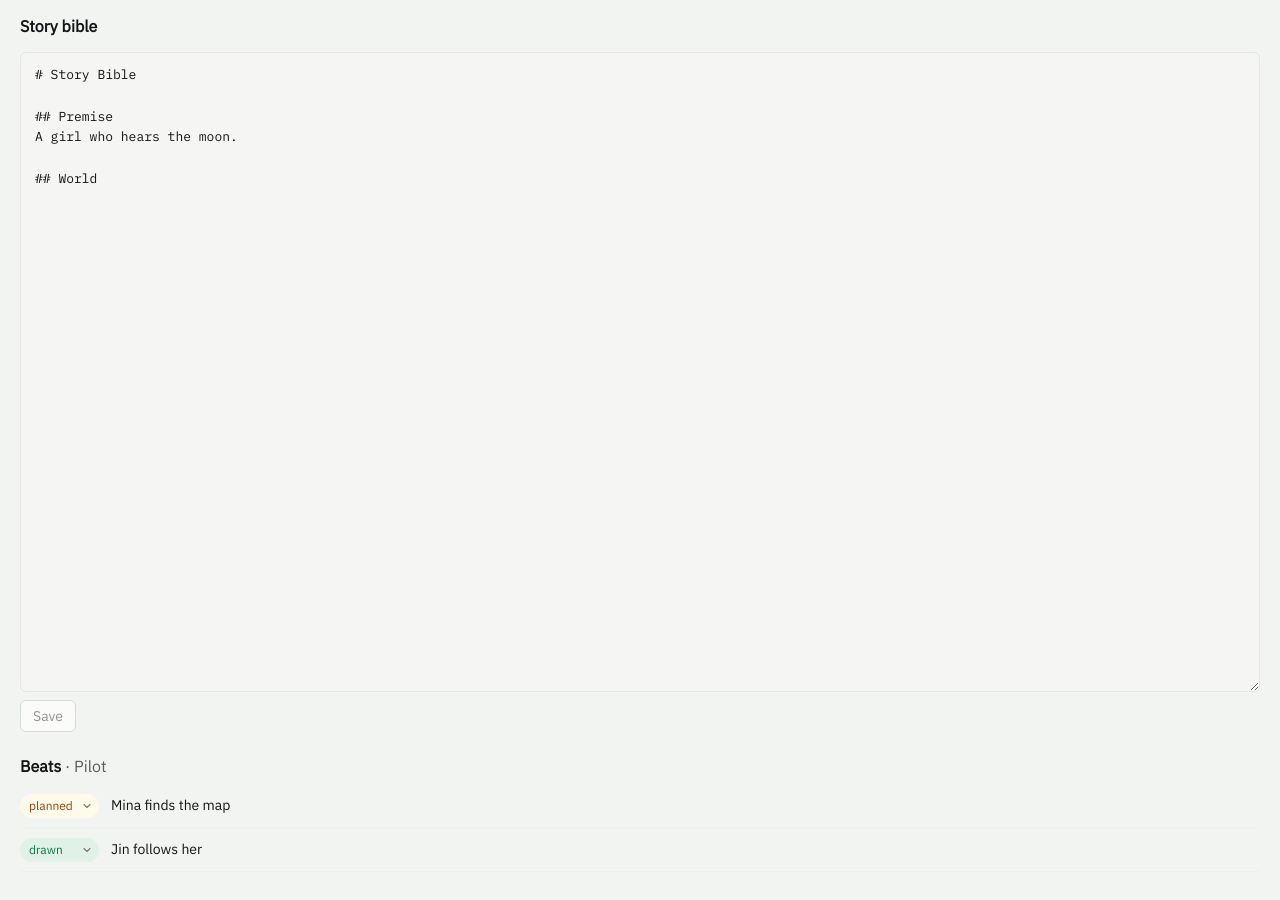
Test: StoryTab › does not wipe unsaved text when the agent changes the bible, and warns that saving overwrites
Type "my draft" into the text box with test id "bible-editor". click: (640, 372)
box: x1=20 y1=52 x2=1260 y2=692
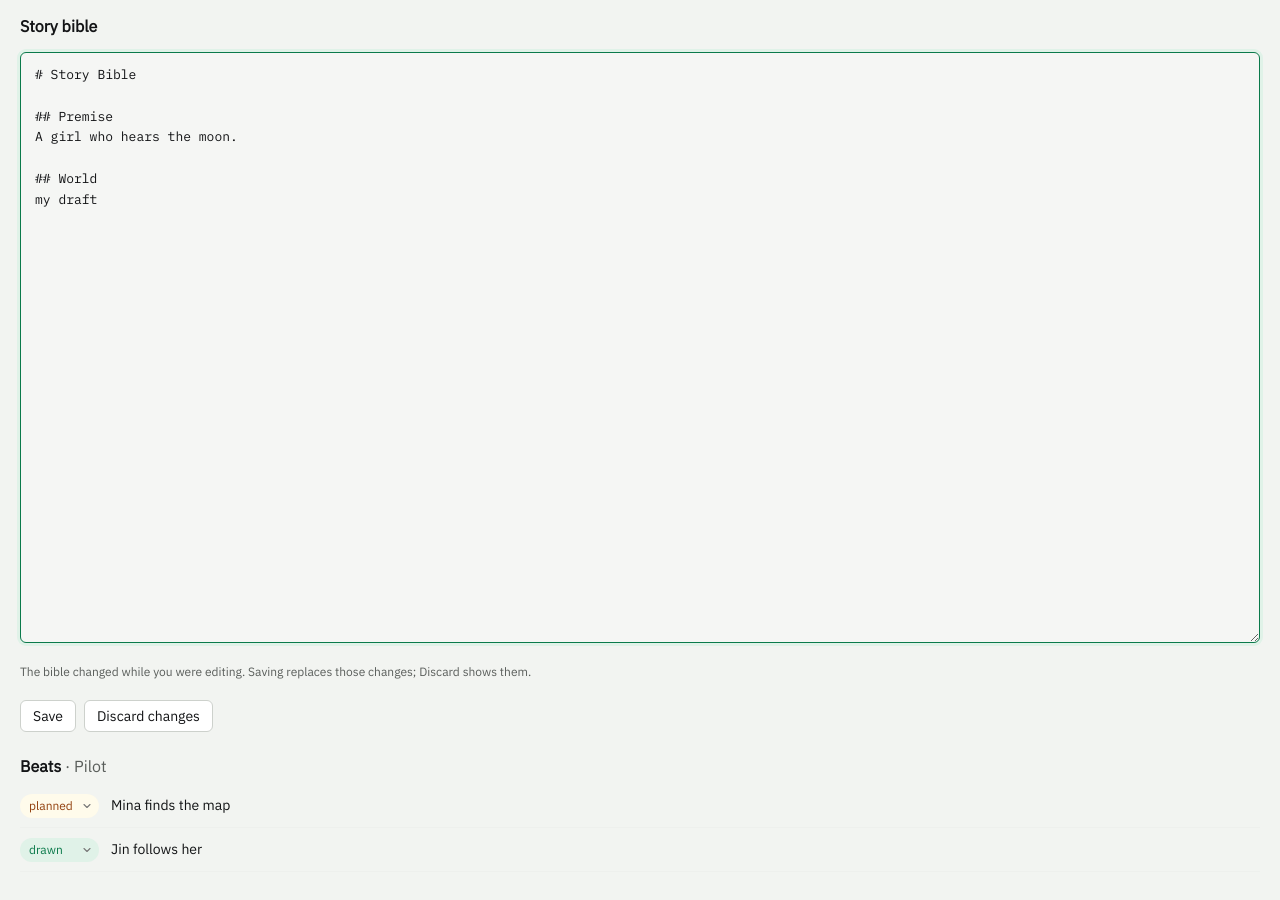
Result: the message with test id "bible-conflict" shows "changed" at x1=20 y1=664 x2=531 y2=679
Click the button with test id "bible-discard". click: (148, 716)
box: x1=84 y1=700 x2=213 y2=732
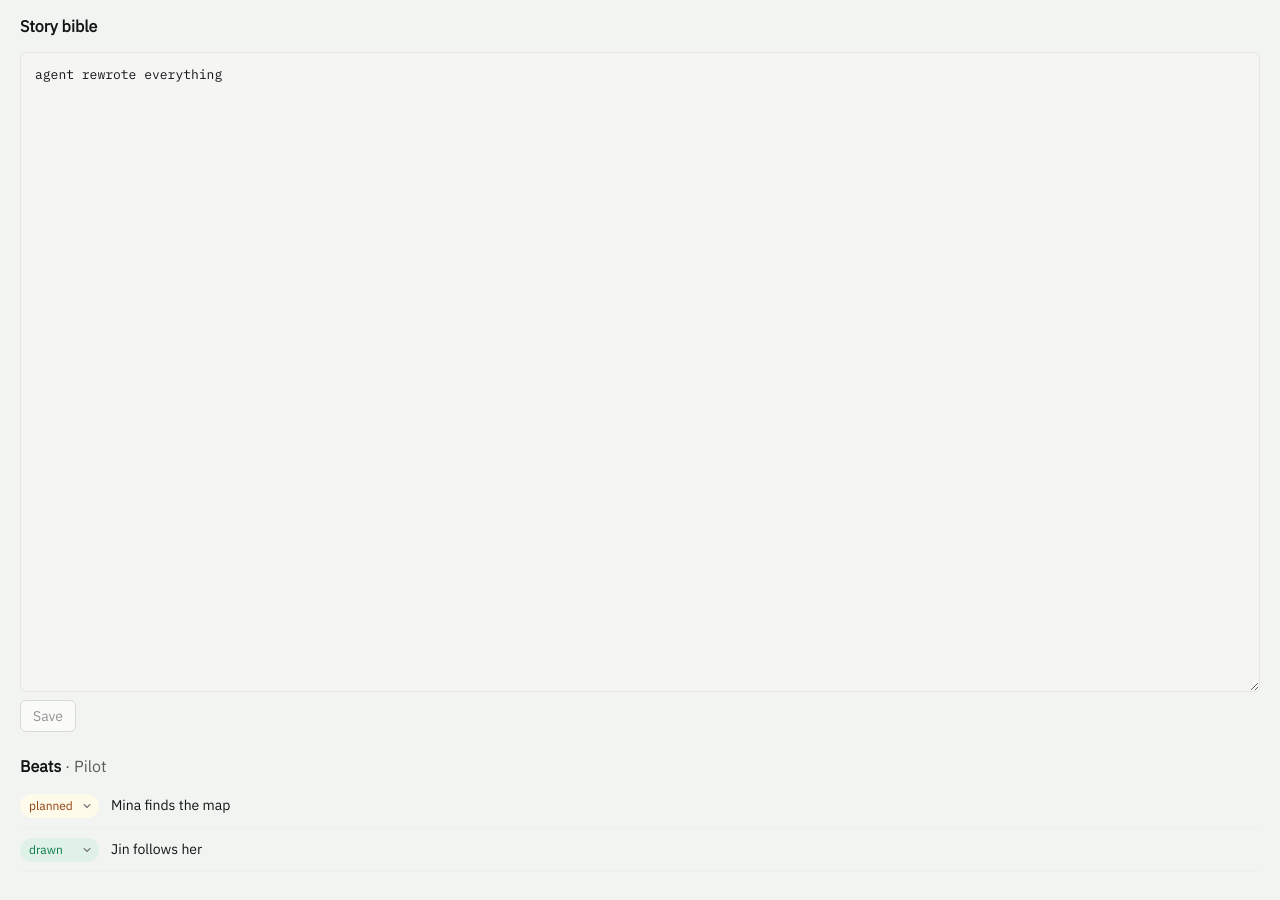
Result: the text box with test id "bible-editor" holds "agent rewrote everything"
Result: the message with test id "bible-conflict" is gone
